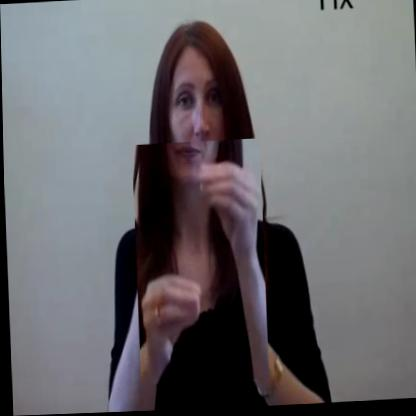Fix: (131, 140, 267, 386)
